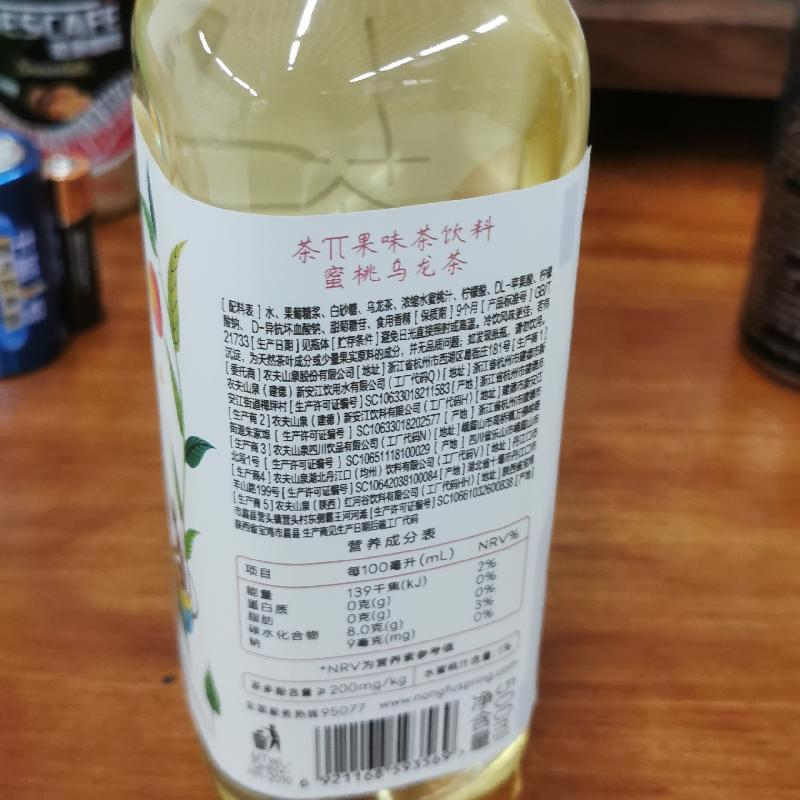bottles: (127, 1, 598, 799)
